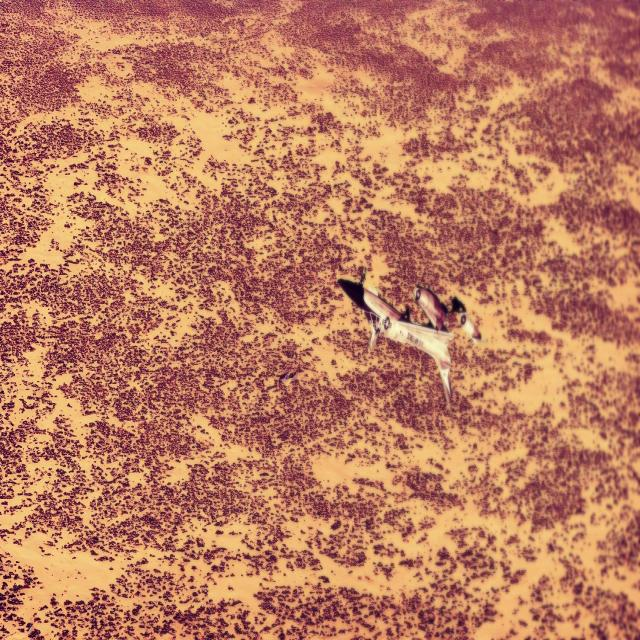airplane: (336, 265, 481, 406)
